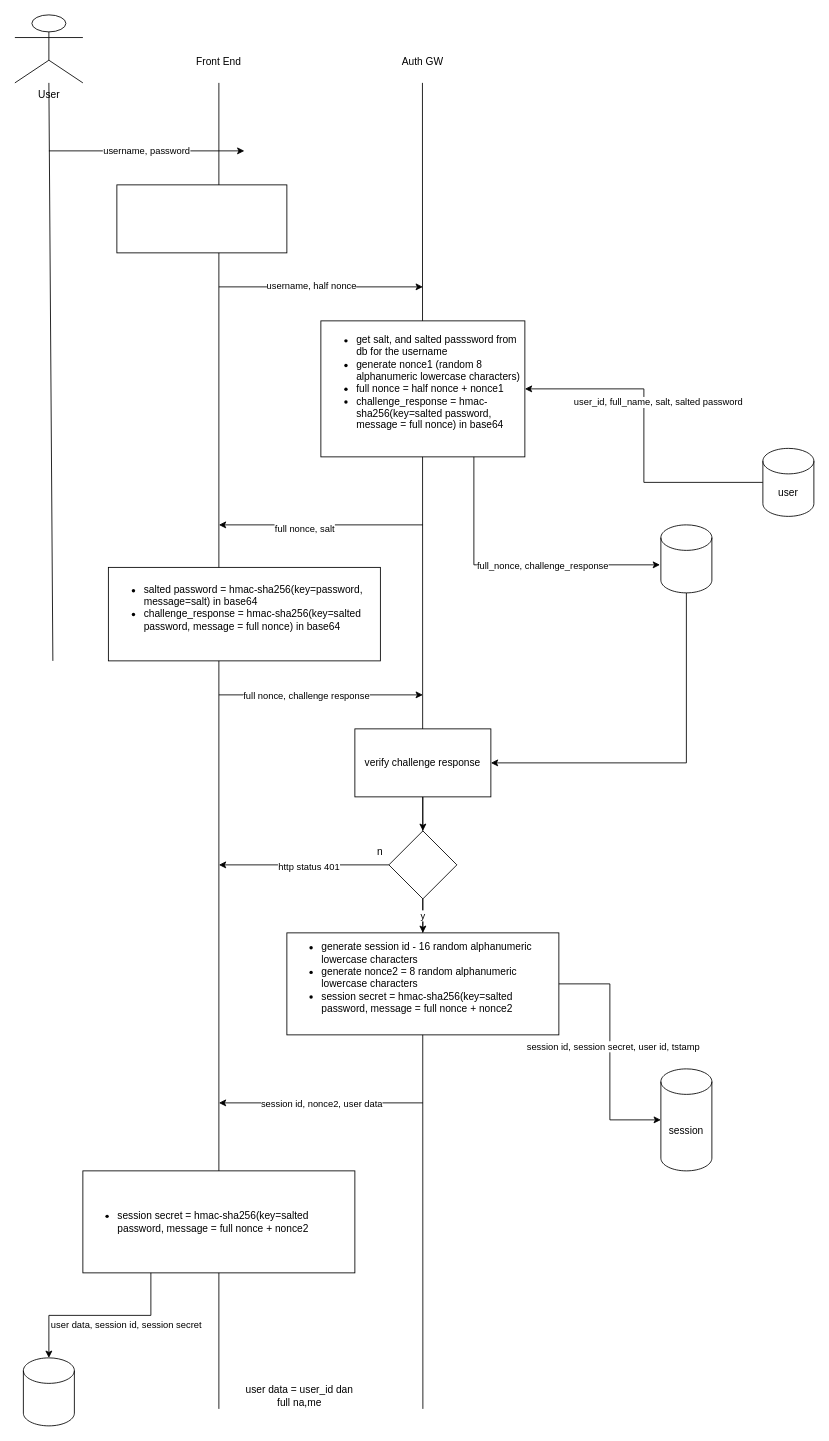
Some shapes in this 829 by 1441 pixel diagram are drawn without their labels. The box of each missing label's shape, as (x1, y1, x2, y2) in pixels:
challenge_response: (660, 524, 712, 593)
generate half nonce (random 8 alphanumeric lowercase characters): (116, 184, 287, 253)
local storage: (23, 1357, 74, 1426)
valid?: (388, 830, 457, 899)
